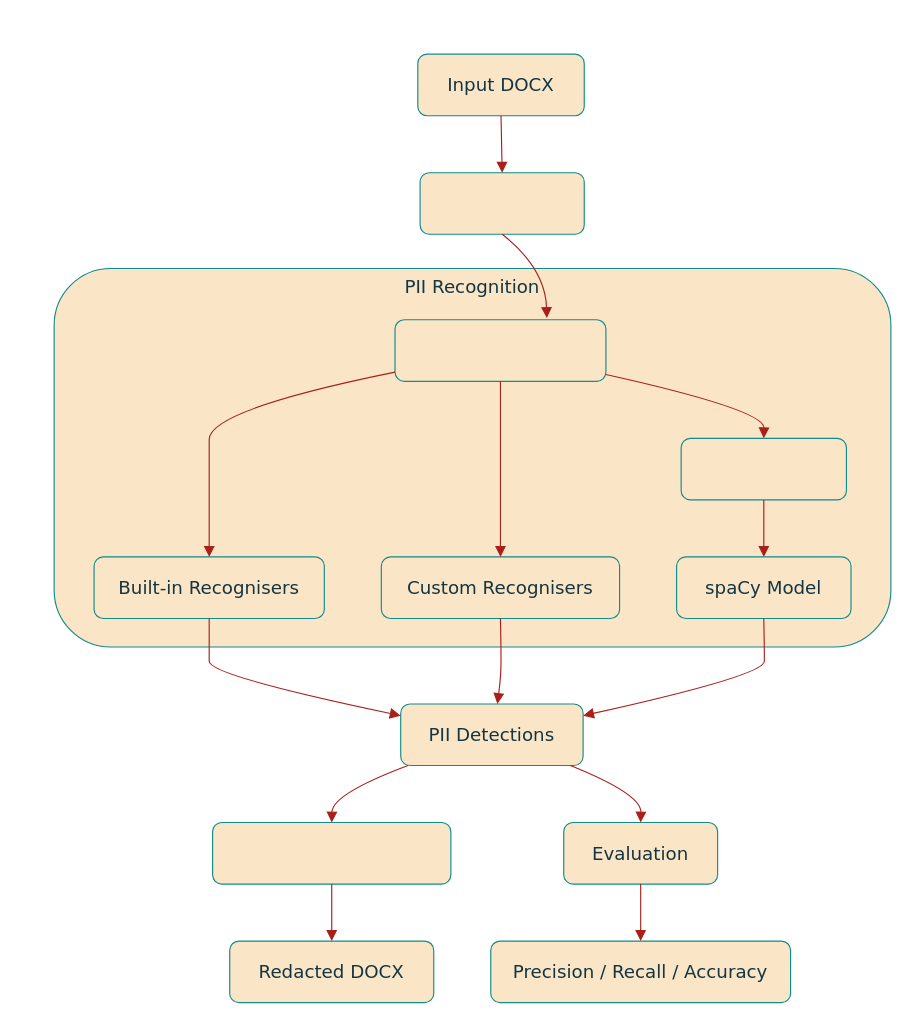
Some shapes in this 911 by 1023 pixel diagram are drawn without their labels. The centre of each missing label's shape, as x and y in pixels:
"Extract Text" belongs at (501,203).
"NLP Engine" belongs at (763,468).
"Presidio Analyzer" belongs at (500,350).
"Replacement Engine" belongs at (331,852).
